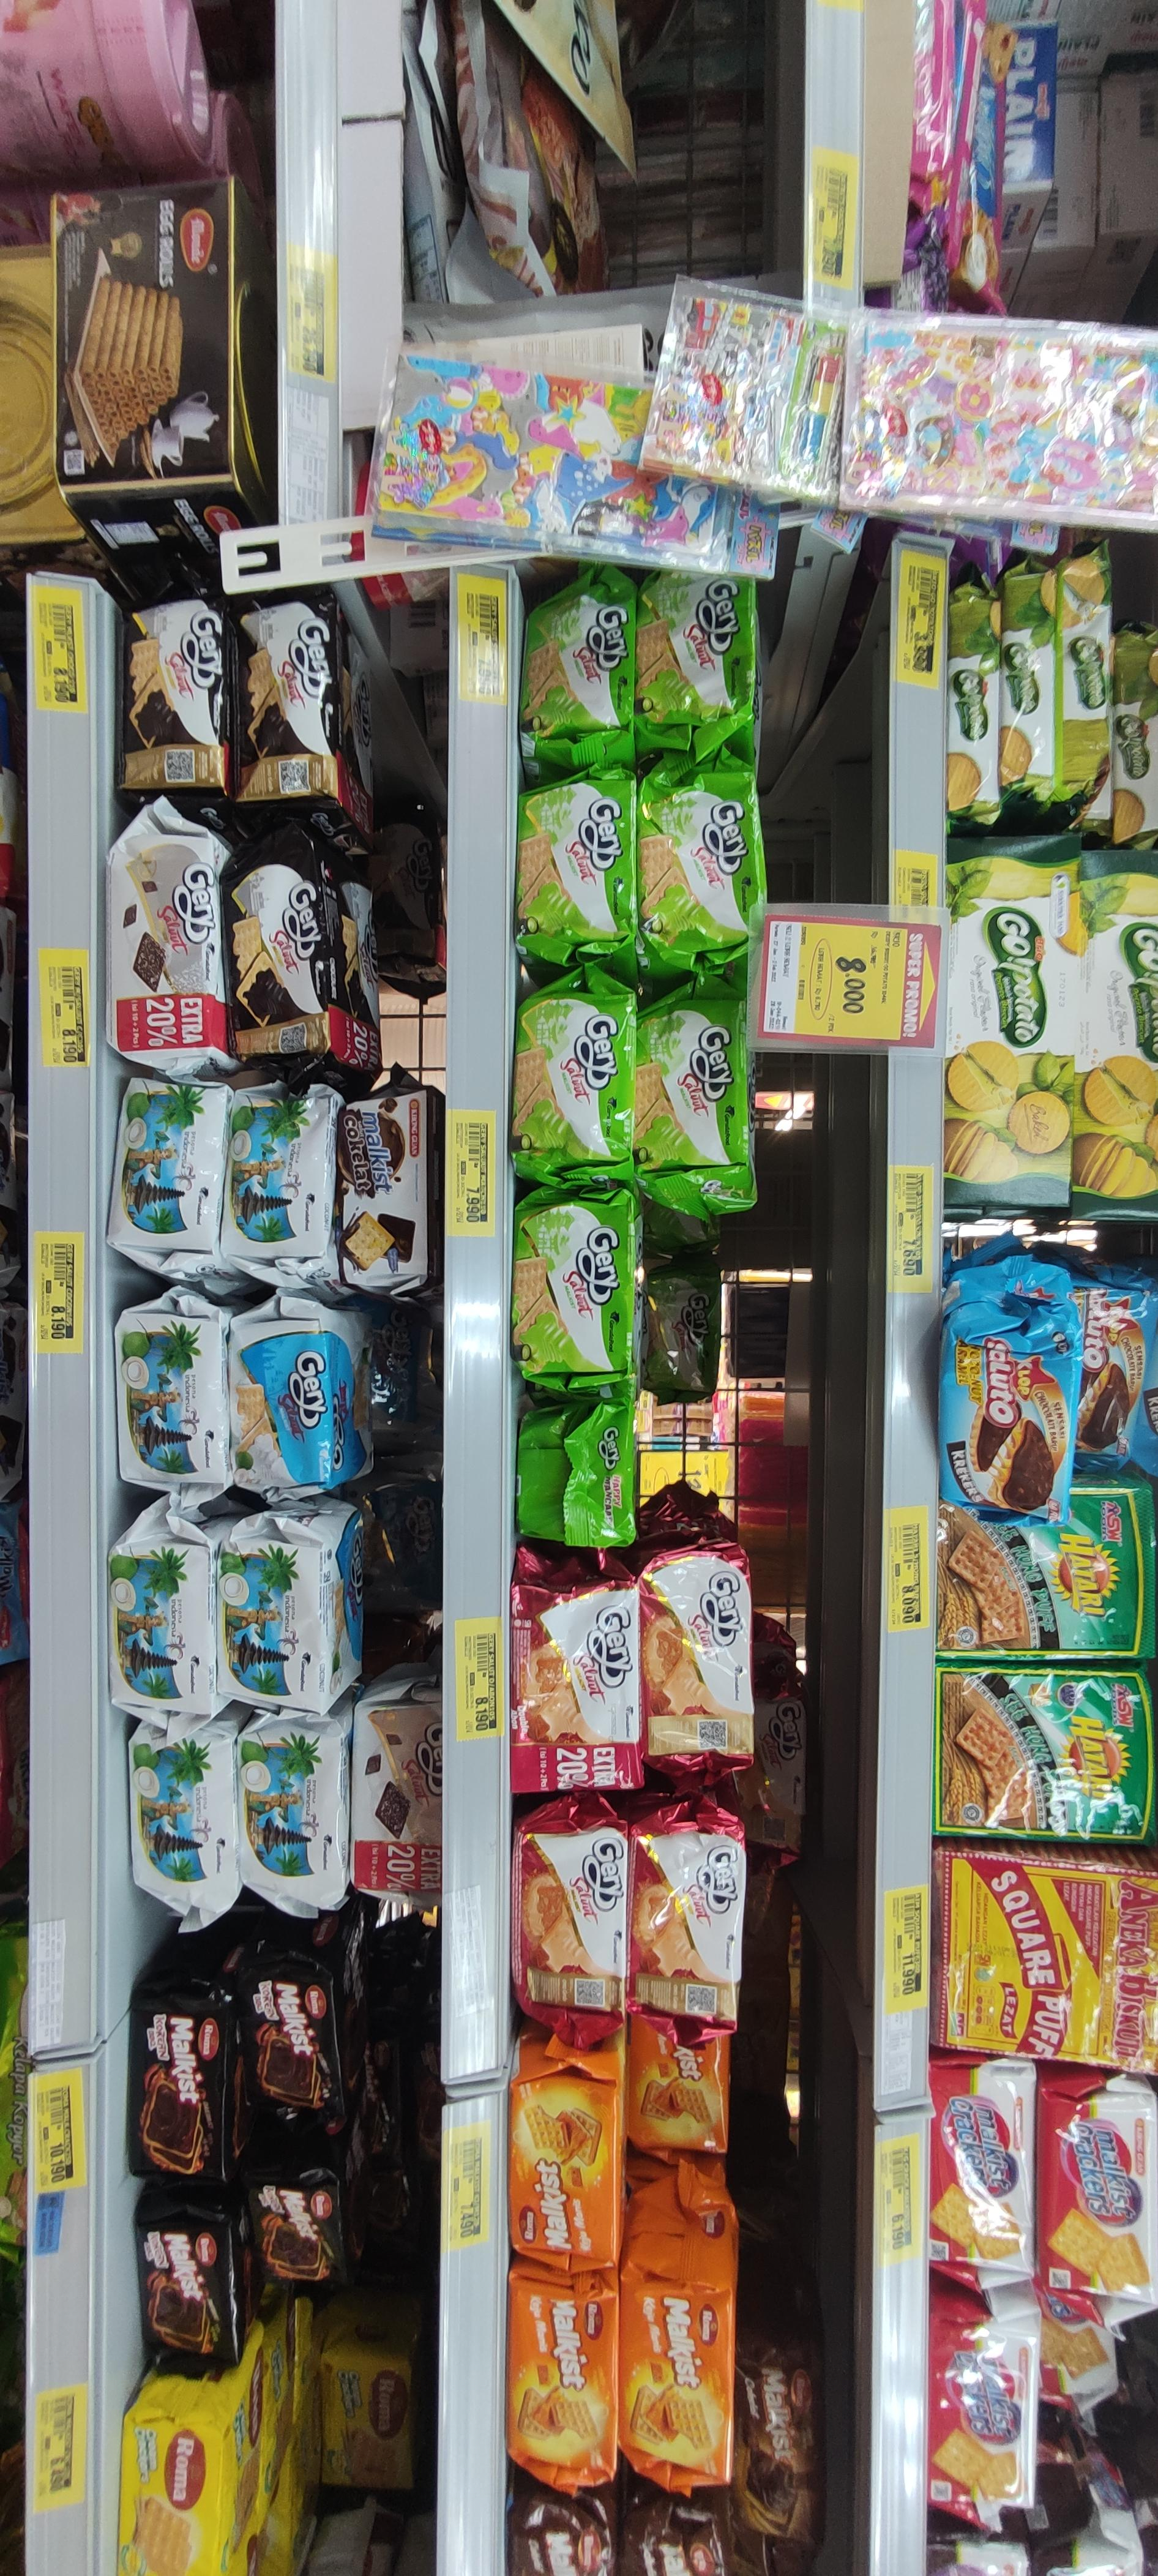90101225202101: (235, 598, 337, 802), (125, 600, 223, 803), (228, 862, 327, 1053)
90101225209100: (233, 1518, 361, 1712), (228, 1316, 366, 1495), (117, 1084, 214, 1255), (240, 1732, 337, 1901), (110, 1549, 207, 1718), (115, 1313, 212, 1482), (223, 1084, 320, 1253), (135, 1738, 230, 1907)
90101225212101: (637, 774, 762, 946), (509, 1199, 634, 1372), (503, 984, 627, 1157), (512, 769, 637, 941), (636, 1012, 761, 1183), (626, 570, 751, 741), (514, 582, 639, 752), (519, 1408, 642, 1549), (646, 1268, 723, 1403)
90101225218101: (107, 833, 222, 1063), (353, 1702, 453, 1898)
90101225226101: (512, 1564, 634, 1794), (644, 1556, 752, 1773), (519, 1814, 627, 2031), (632, 1810, 741, 2027)
AimBiskuitSquarePuff: (933, 1850, 1158, 2070)
GoPotato104Gr: (944, 835, 1078, 1206)
GoPotato60Gr: (1002, 575, 1048, 789), (951, 600, 997, 812), (1059, 565, 1105, 777)
HatariSeeHongPuff: (936, 1482, 1151, 1656), (936, 1668, 1153, 1840)
KhonGuanMalkistCokelat: (347, 1101, 430, 1288)
KhongGuanMalkistCrackers: (1043, 2080, 1158, 2305), (928, 2067, 1032, 2265), (928, 2310, 1030, 2510)
KlopSalutoChocoNutCaramel: (944, 1263, 1064, 1523)
RomaCreamCrackers: (120, 2420, 218, 2576), (324, 2354, 416, 2489)
RomaMalkistKejuManis: (509, 2081, 623, 2274), (624, 2290, 738, 2482), (503, 2288, 614, 2481)
RomaMalkistKoreanBBQ: (135, 2008, 223, 2173), (243, 1978, 342, 2119), (140, 2215, 237, 2356), (243, 2167, 347, 2290)
